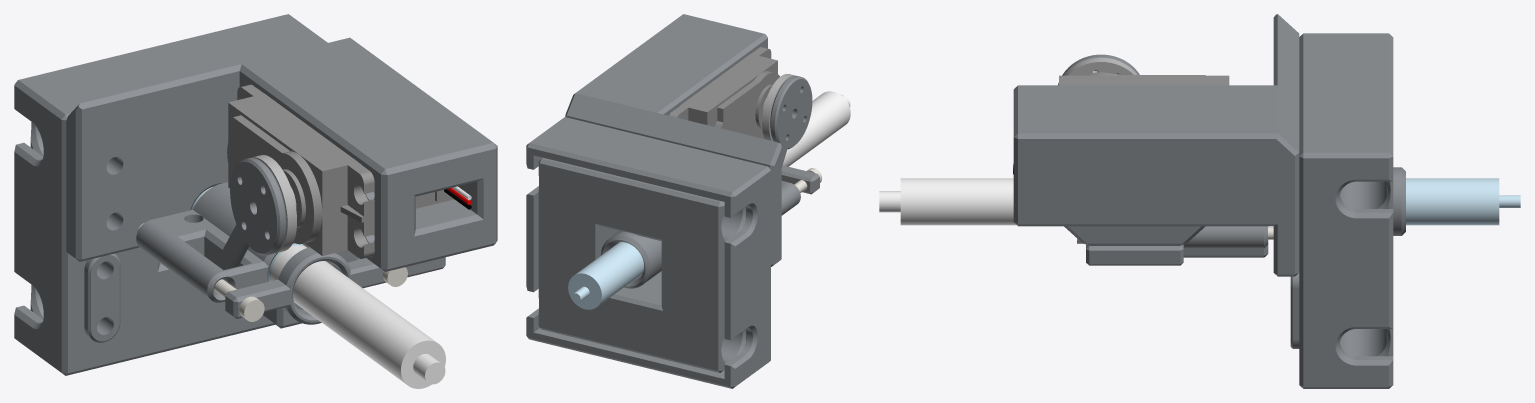
File: Tete.gltf
3 views of the same model, side by side, from view 1: azimuth 30°, elevation 25°; view 2: azimuth 150°, elevation 25°; view 3: azimuth 270°, elevation 25° (orthographic). The views are drawn at different scales.
Parts seen in each view (by area): view 1: Part 1 (×6), Part 2 (×3), FS5103B, Part 3; view 2: Part 1 (×7), Part 2 (×2), FS5103B; view 3: Part 1 (×6), Part 2 (×2), FS5103B, Part 3.
Part boxes in pixels (<box>): Part 1 (×6): <box>30,37,497,328</box>; Part 2 (×3): <box>14,14,445,388</box>; FS5103B: <box>227,84,471,258</box>; Part 3: <box>84,253,120,342</box>; Part 1 (×7): <box>538,14,819,372</box>; Part 2 (×2): <box>526,91,850,388</box>; FS5103B: <box>669,47,779,138</box>; Part 1 (×6): <box>1013,14,1520,356</box>; Part 2 (×2): <box>879,33,1393,388</box>; FS5103B: <box>1013,72,1229,174</box>; Part 3: <box>1290,273,1299,348</box>.
Bounding box in the file's own units: 0.068 × 0.066 × 0.15.
